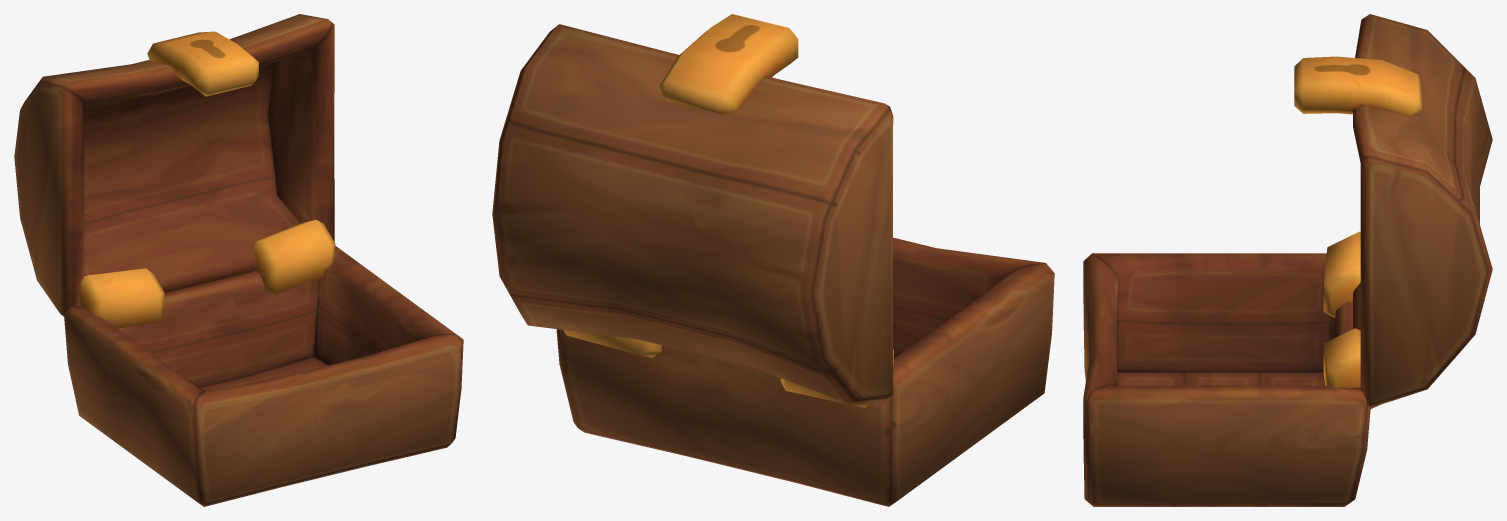
Rendered from Chest_02.fbx.
3 views of the same model, side by side, from view 1: azimuth 30°, elevation 25°; view 2: azimuth 150°, elevation 25°; view 3: azimuth 270°, elevation 25° (orthographic). The views are drawn at different scales.
Visible parts, largest first — view 1: Chest_02; view 2: Chest_02; view 3: Chest_02.
Boxes of the visible parts, x1,y1,x2,y2 form: Chest_02: [14, 14, 463, 506]; Chest_02: [492, 14, 1054, 506]; Chest_02: [1083, 14, 1492, 506].
Size of the model in its own units: 1.89 by 2.29 by 2.26.
